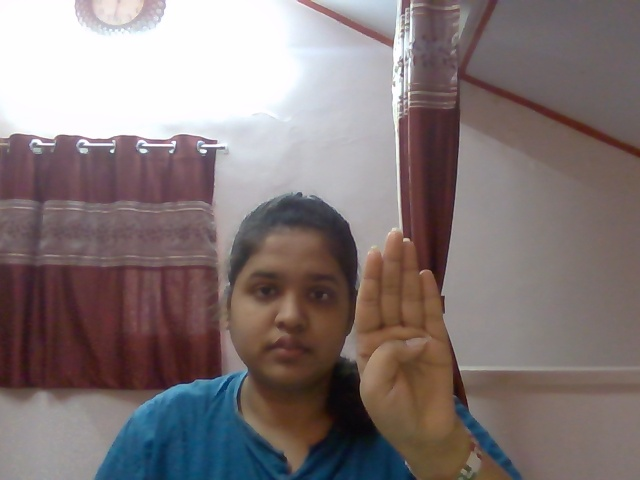b: (343, 216, 469, 447)
